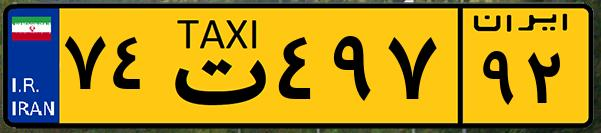2: (525, 38, 570, 115)
4: (270, 28, 330, 110), (110, 28, 158, 98)
7: (385, 28, 445, 110), (57, 26, 110, 100)
9: (330, 28, 385, 110), (475, 38, 525, 113)
ت: (158, 12, 270, 120)
